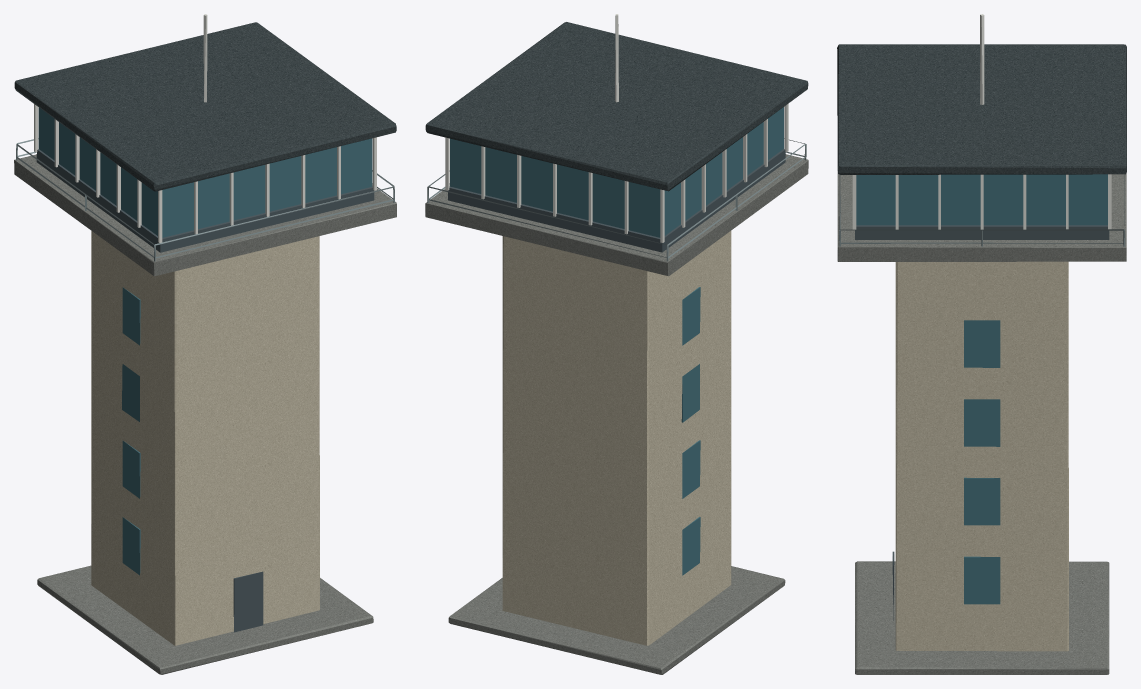
Rendered from ControlTower_23m_LOD1.glb.
The picture shows the model from 3 angles, left to right: view 1: azimuth 30°, elevation 25°; view 2: azimuth 150°, elevation 25°; view 3: azimuth 270°, elevation 25°; orthographic projection. The views are drawn at different scales.
Visible parts, largest first — view 1: ControlTower_23m_export; view 2: ControlTower_23m_export; view 3: ControlTower_23m_export.
Boxes of the visible parts, x1,y1,x2,y2 form: ControlTower_23m_export: (14, 14, 396, 674); ControlTower_23m_export: (425, 14, 808, 674); ControlTower_23m_export: (837, 14, 1126, 674).
Bounding box in the file's own units: 9.98 × 23.1 × 9.98.
Materials: 7 (3 with a texture image).
